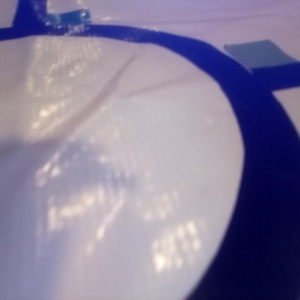bottom_right: (88, 22, 169, 50)
top_left: (34, 74, 144, 128), (177, 1, 245, 16)
